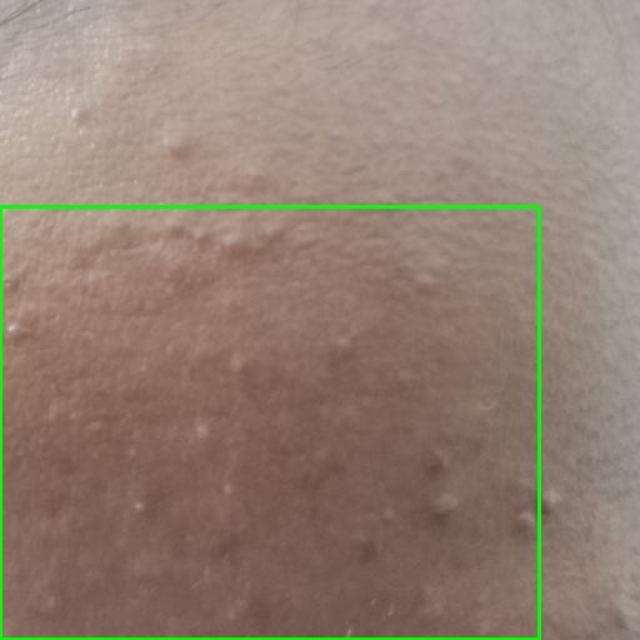Eczema: (0, 206, 539, 639)
